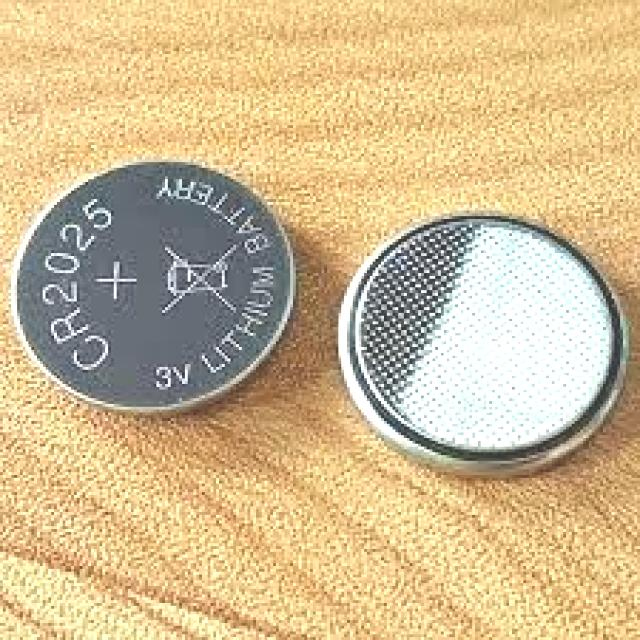COIN: (331, 204, 636, 485), (7, 156, 303, 422)
